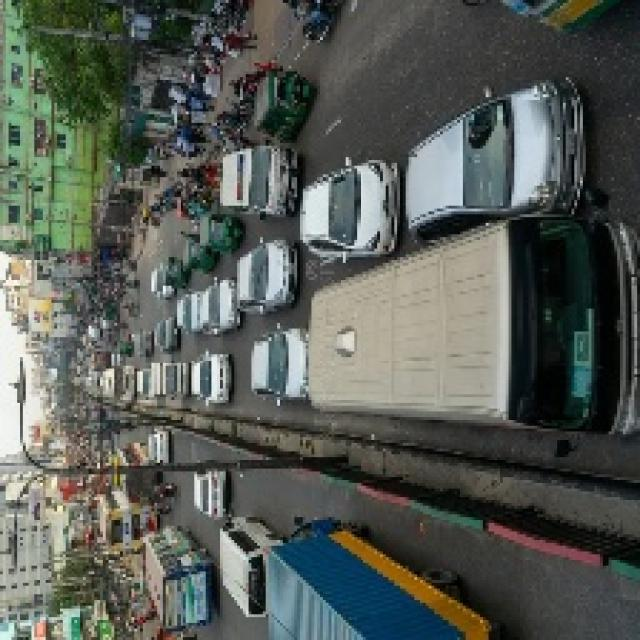bike: (163, 483, 177, 498), (159, 502, 172, 516)
car: (399, 71, 586, 238), (301, 155, 397, 268), (245, 326, 321, 409), (212, 143, 292, 218), (216, 512, 268, 625), (234, 229, 294, 320), (191, 460, 230, 526), (203, 270, 237, 344), (192, 353, 235, 408), (176, 278, 202, 336), (152, 310, 179, 357), (148, 426, 170, 474), (131, 331, 150, 357)
